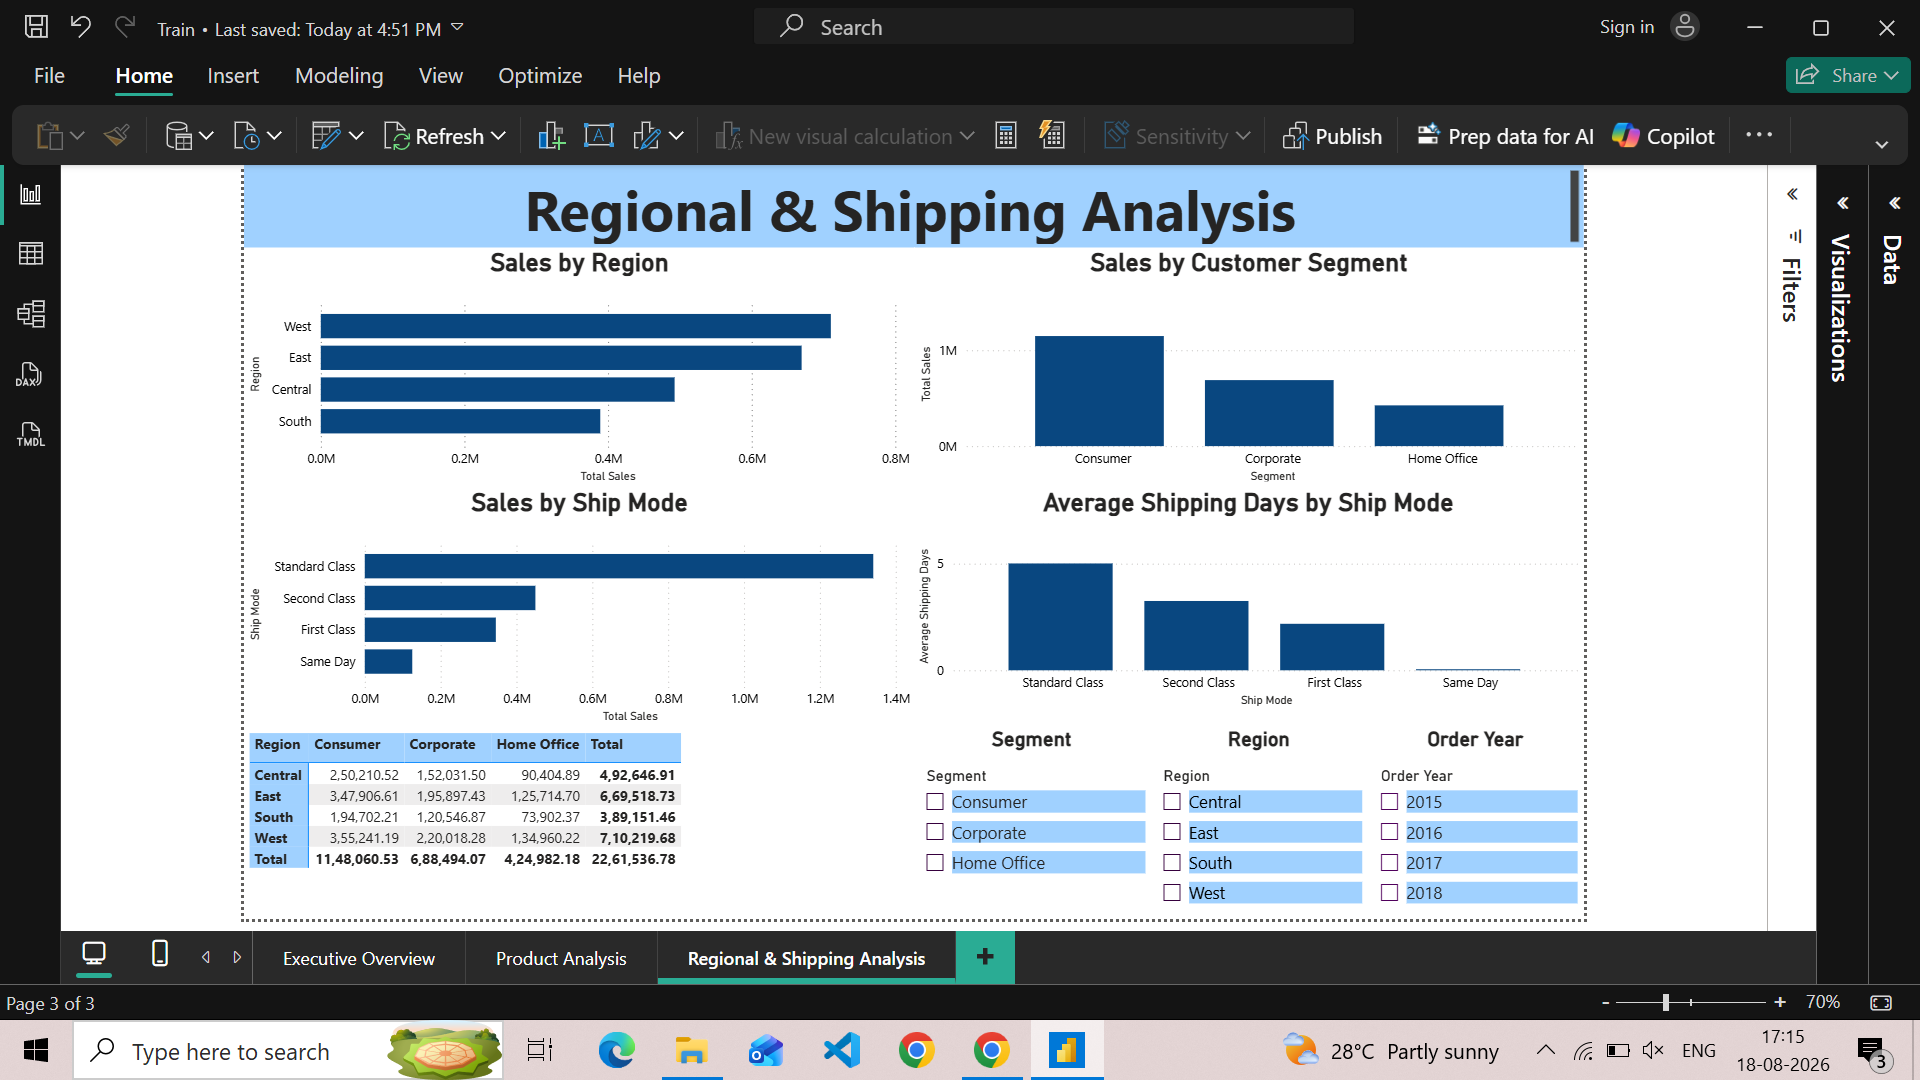

The dashboard page shown, as its layout file describes it:
{"tool":"powerbi","page":{"name":"Regional & Shipping Analysis","canvas":[1280,720],"ordinal":2},"visuals":[{"type":"textbox","box":[0,0,1279.4,79.4],"z":0},{"type":"clusteredBarChart","title":"Sales by Region","fields":{"Category":["train.Region"],"Y":["train.Total Sales"]},"box":[0,79.4,640.6,228.7],"z":1},{"type":"columnChart","title":"Sales by  Customer Segment","fields":{"Category":["train.Segment"],"Y":["train.Total Sales"]},"box":[640.6,79.4,638.7,228.7],"z":2},{"type":"barChart","title":"Sales by Ship Mode","fields":{"Y":["train.Total Sales"],"Category":["train.Ship Mode"]},"box":[0,308,641,229],"z":3},{"type":"clusteredColumnChart","fields":{"Category":["train.Ship Mode"],"Y":["train.Average Shipping Days"]},"box":[638.7,308,640.6,213.5],"z":4},{"type":"pivotTable","fields":{"Rows":["train.Region"],"Columns":["train.Segment"],"Values":["train.Total Sales"]},"box":[0,536.7,638.7,183.3],"z":5},{"type":"slicer","title":"Order Year","fields":{"Values":["train.Order Year"]},"box":[1073.4,536.7,206,183.3],"z":6},{"type":"slicer","title":"Region","fields":{"Values":["train.Region"]},"box":[865.5,536.7,207.9,183.3],"z":7},{"type":"slicer","title":"Segment","fields":{"Values":["train.Segment"]},"box":[638.7,536.7,226.8,183.3],"z":8}]}

Visuals, with their boxes on the page's 1280x720 design canvas (x1, y1, x2, y2). These are canvas units, not pixel positions in the 1920x1080 screenshot, which may show the page scaled, cropped or inside an application window:
textbox: [0, 0, 1279, 79]
"Sales by Region" clusteredBarChart: [0, 79, 641, 308]
"Sales by  Customer Segment" columnChart: [641, 79, 1279, 308]
"Sales by Ship Mode" barChart: [0, 308, 641, 537]
clusteredColumnChart - train.Ship Mode x train.Average Shipping Days: [639, 308, 1279, 522]
pivotTable - train.Region x train.Segment: [0, 537, 639, 720]
"Order Year" slicer: [1073, 537, 1279, 720]
"Region" slicer: [866, 537, 1073, 720]
"Segment" slicer: [639, 537, 866, 720]
